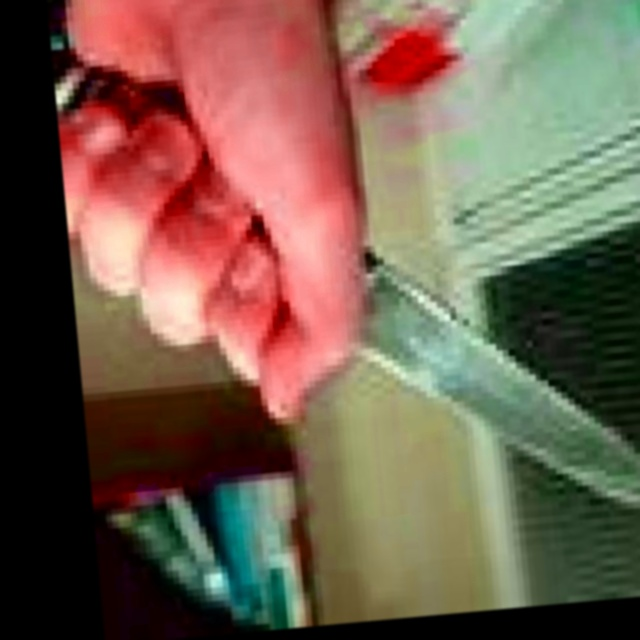Sharp-Object: (58, 8, 640, 558)
